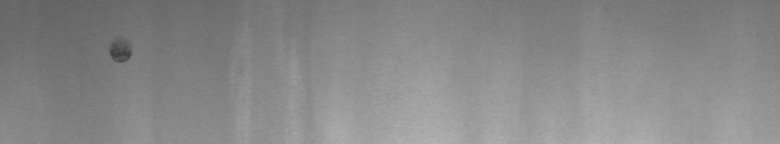fi: (104, 36, 136, 68)
